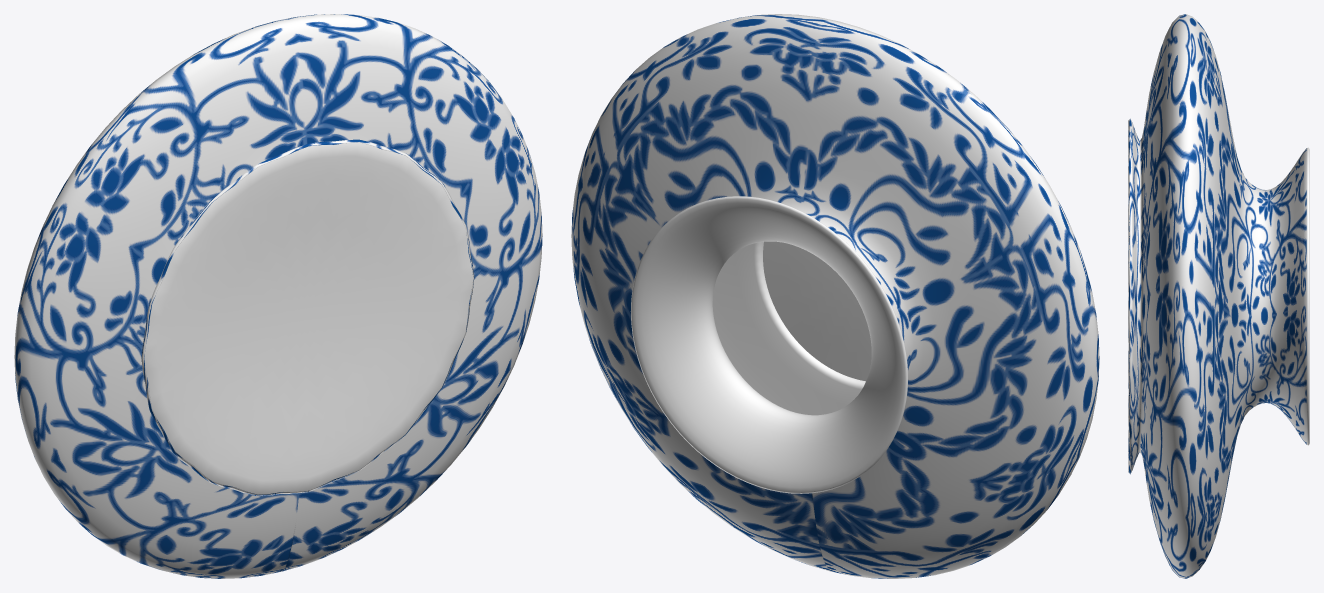
Rendered from 青花瓷盆.glb.
3 views of the same model, side by side, from view 1: azimuth 30°, elevation 25°; view 2: azimuth 150°, elevation 25°; view 3: azimuth 270°, elevation 25° (orthographic). The views are drawn at different scales.
Parts seen in each view (by area): view 1: pCylinder2; view 2: pCylinder2; view 3: pCylinder2.
Part boxes in pixels (x1,y1,x2,y2): pCylinder2: [14, 14, 542, 578]; pCylinder2: [571, 14, 1099, 578]; pCylinder2: [1128, 14, 1309, 578].
Size of the model in its own units: 5.74 by 5.74 by 1.84.
1 material, 1 textured.
